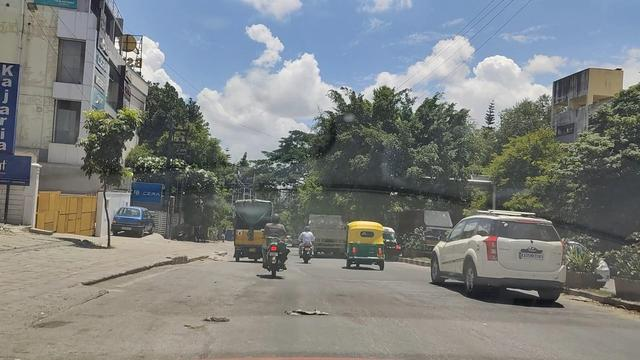HMV: (290, 201, 349, 268), (224, 194, 277, 268)
